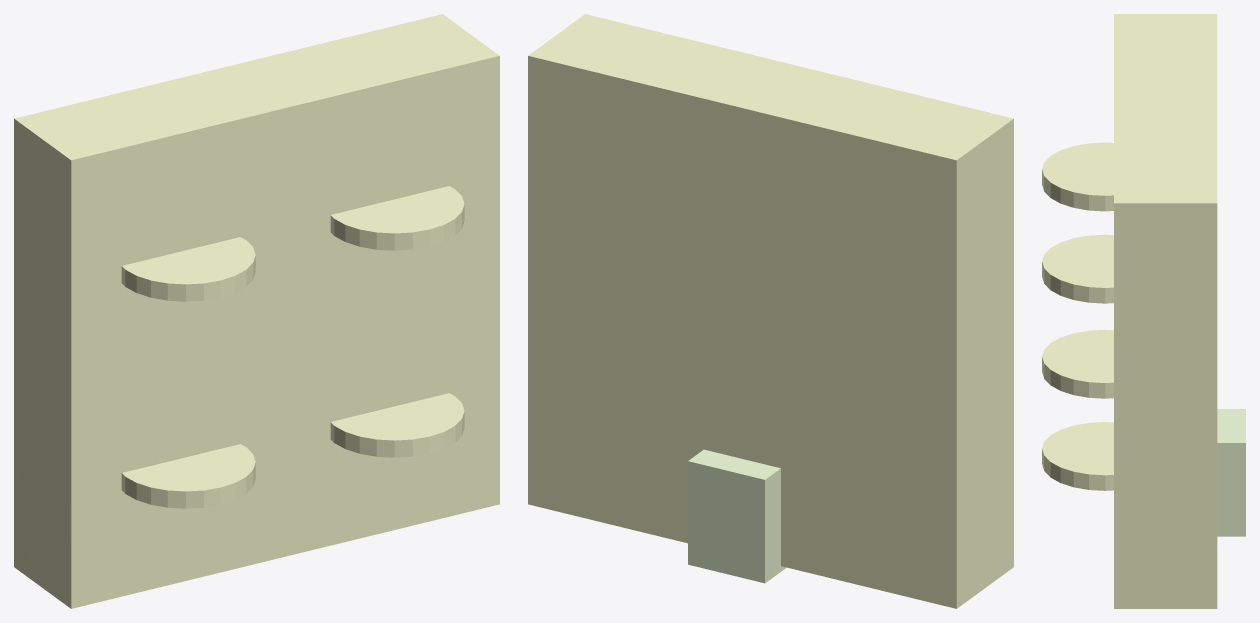
The model's file is signal_preemption_beacon_quad_lunar_box.glb.
3 renders of one model, left to right at view 1: azimuth 30°, elevation 25°; view 2: azimuth 150°, elevation 25°; view 3: azimuth 270°, elevation 25°, orthographic. The views are drawn at different scales.
Visible parts, largest first — view 1: housing, lens_preempt_se, lens_preempt_nw, lens_preempt_ne, lens_preempt_sw; view 2: housing, bracket; view 3: housing, lens_preempt_se, lens_preempt_sw, lens_preempt_nw, lens_preempt_ne, bracket.
Part boxes in pixels (left/top/right/bottom): housing: left=14, top=14, right=499, bottom=608; lens_preempt_se: left=330, top=393, right=464, bottom=457; lens_preempt_nw: left=121, top=237, right=255, bottom=301; lens_preempt_ne: left=330, top=186, right=464, bottom=250; lens_preempt_sw: left=121, top=444, right=255, bottom=508; housing: left=528, top=14, right=1013, bottom=608; bracket: left=688, top=449, right=786, bottom=583; housing: left=1114, top=14, right=1217, bottom=608; lens_preempt_se: left=1042, top=422, right=1113, bottom=490; lens_preempt_sw: left=1042, top=329, right=1113, bottom=398; lens_preempt_nw: left=1042, top=142, right=1113, bottom=211; lens_preempt_ne: left=1042, top=234, right=1113, bottom=303; bracket: left=1217, top=409, right=1245, bottom=536.
Bounding box in the file's own units: 0.78 × 0.79 × 0.355.
